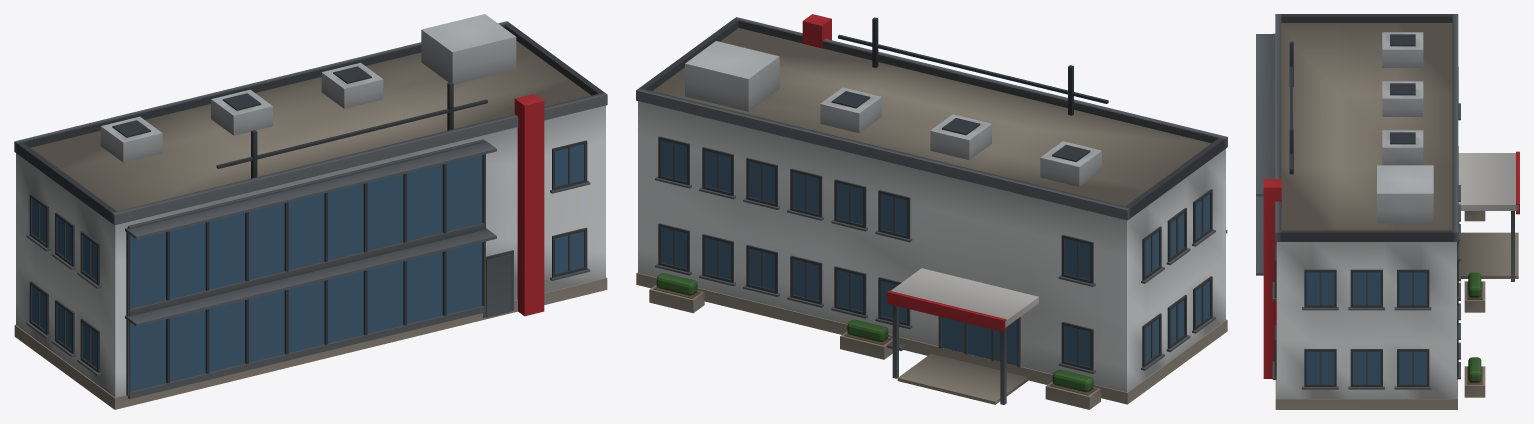
The model's file is oficinas-Bi3LghXd.glb.
3 renders of one model, left to right at view 1: azimuth 30°, elevation 25°; view 2: azimuth 150°, elevation 25°; view 3: azimuth 270°, elevation 25°, orthographic. The views are drawn at different scales.
Visible parts, largest first — view 1: pieza.007, pieza.002, pieza, pieza.003, pieza.023, pieza.001, pieza.053, pieza.021, pieza.022, pieza.004, pieza.019, pieza.018 (+20 smaller); view 2: pieza, pieza.002, pieza.004, pieza.001, pieza.053, pieza.003, pieza.029, pieza.033, pieza.024, pieza.049, pieza.047, pieza.051 (+24 smaller); view 3: pieza.002, pieza, pieza.053, pieza.029, pieza.022, pieza.023, pieza.033, pieza.001, pieza.006, pieza.004, pieza.005, pieza.003 (+20 smaller).
Part boxes in pixels (box(x1,y1,x2,y2)): pieza.007: box(130, 155, 482, 391); pieza.002: box(31, 41, 590, 211); pieza: box(16, 105, 605, 397); pieza.003: box(111, 92, 607, 224); pieza.023: box(514, 94, 544, 316); pieza.001: box(14, 277, 607, 409); pieza.053: box(421, 14, 516, 84); pieza.021: box(125, 228, 496, 326); pieza.022: box(125, 140, 496, 239); pieza.004: box(14, 21, 509, 153); pieza.019: box(129, 222, 485, 316); pieza.018: box(128, 305, 485, 399); pieza: box(638, 101, 1225, 392); pieza.002: box(652, 28, 1210, 206); pieza.004: box(636, 88, 1130, 220); pieza.001: box(636, 272, 1227, 404); pieza.053: box(685, 41, 779, 111); pieza.003: box(733, 17, 1227, 148); pieza.029: box(891, 268, 1038, 327); pieza.033: box(897, 353, 1028, 404); pieza.024: box(942, 317, 1016, 365); pieza.049: box(930, 114, 991, 160); pieza.047: box(1040, 141, 1101, 186); pieza.051: box(820, 87, 881, 133); pieza.002: box(1281, 23, 1452, 230); pieza: box(1276, 242, 1456, 398); pieza.053: box(1377, 165, 1433, 223); pieza.029: box(1458, 153, 1518, 210); pieza.022: box(1256, 34, 1272, 196); pieza.023: box(1263, 179, 1281, 378); pieza.033: box(1459, 232, 1518, 278); pieza.001: box(1275, 379, 1457, 409); pieza.006: box(1281, 230, 1452, 241); pieza.004: box(1452, 14, 1458, 241); pieza.005: box(1281, 14, 1452, 22); pieza.003: box(1275, 14, 1281, 241).
Size of the model in its own units: 20.32 by 9.2 by 10.25.
